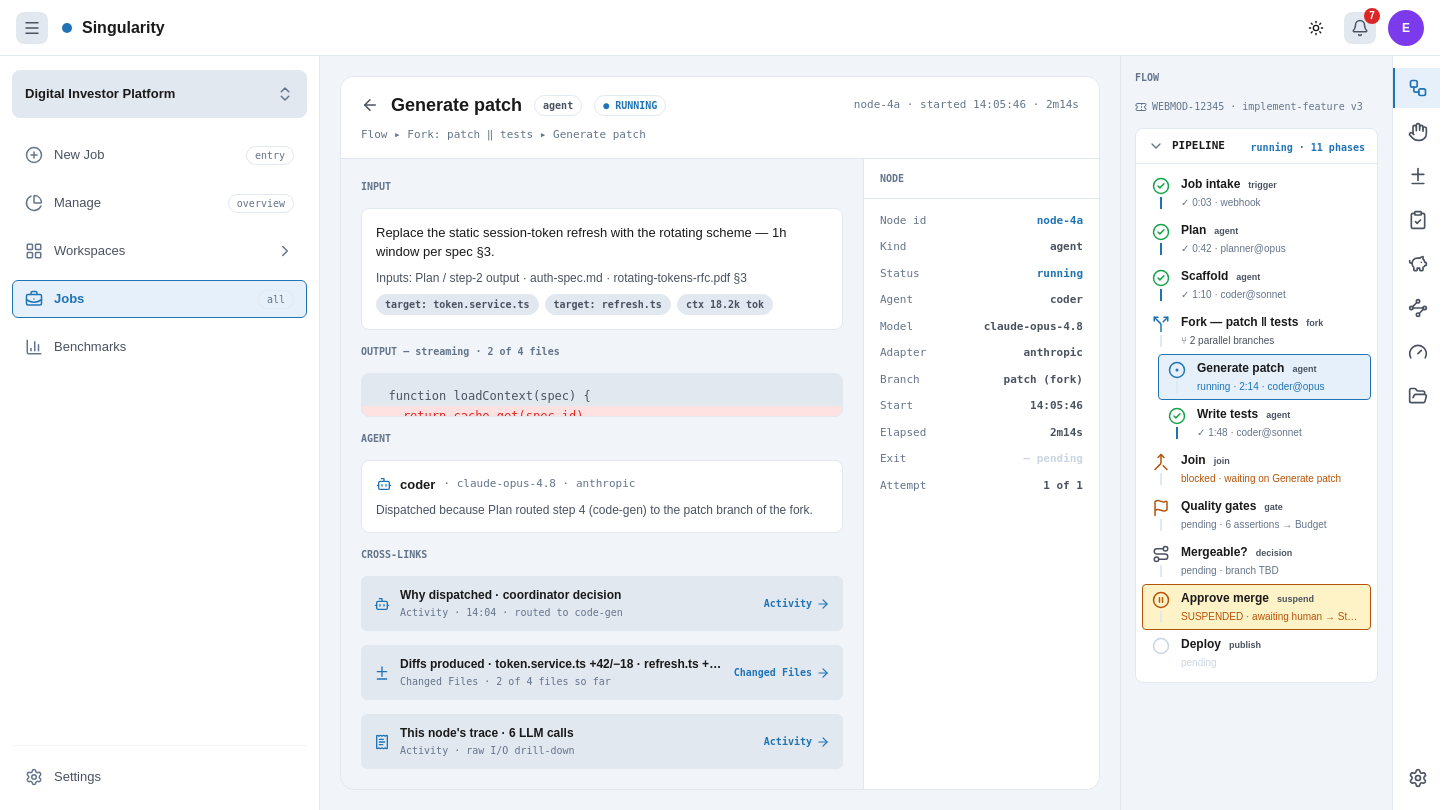
Job detail with ActivityRail › shows all eight sections on the rail and navigates between them
Expected: the navigation bar named "Job sections" is shown, [1392, 56, 1440, 809]
Note: Every section is real now — Context was the last placeholder.
Click the link named "Context" at (1418, 396), box [1408, 386, 1428, 406]
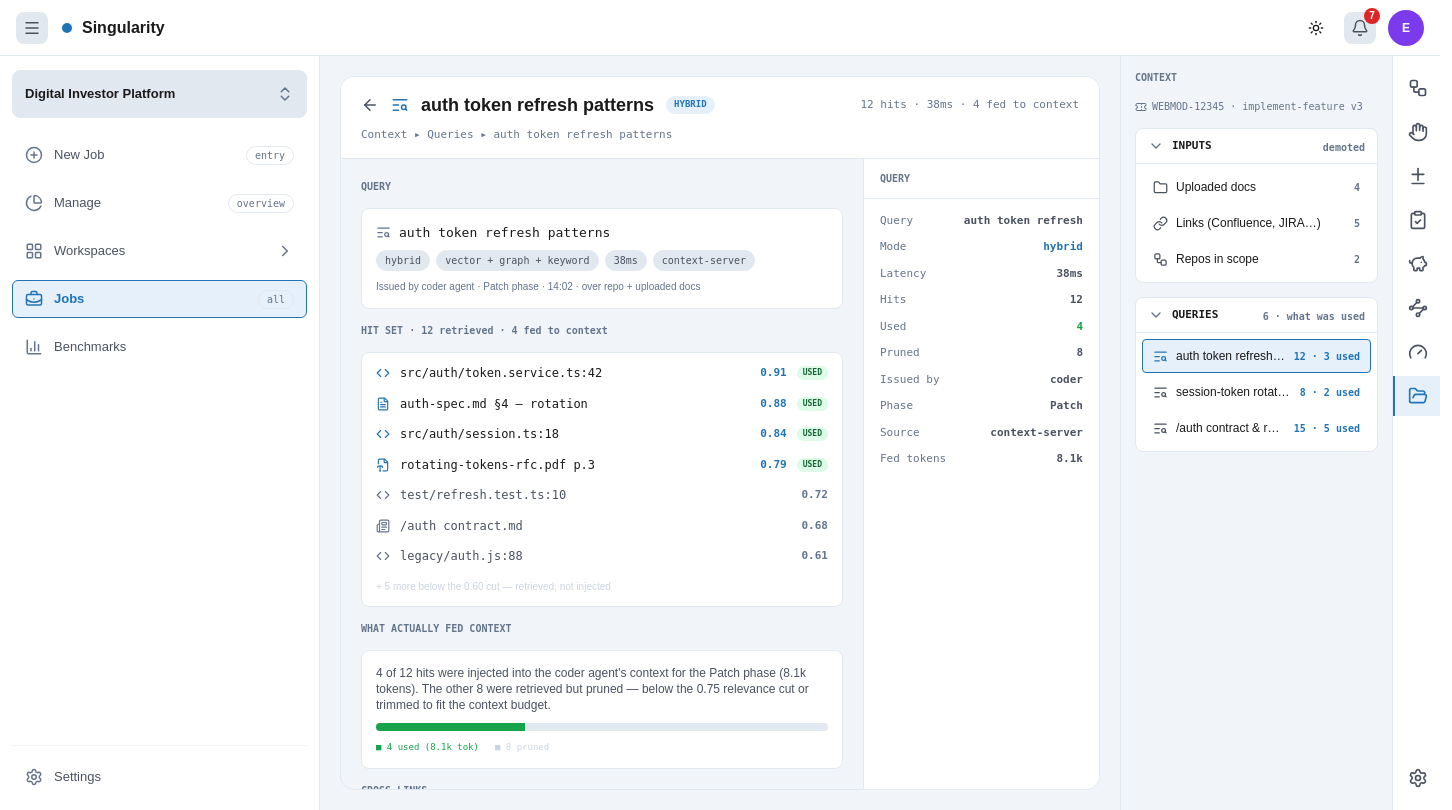
Expected: the text "INPUTS" is shown, [1172, 138, 1212, 154]
Result: the heading "auth token refresh patterns" is shown at [421, 91, 654, 119]
